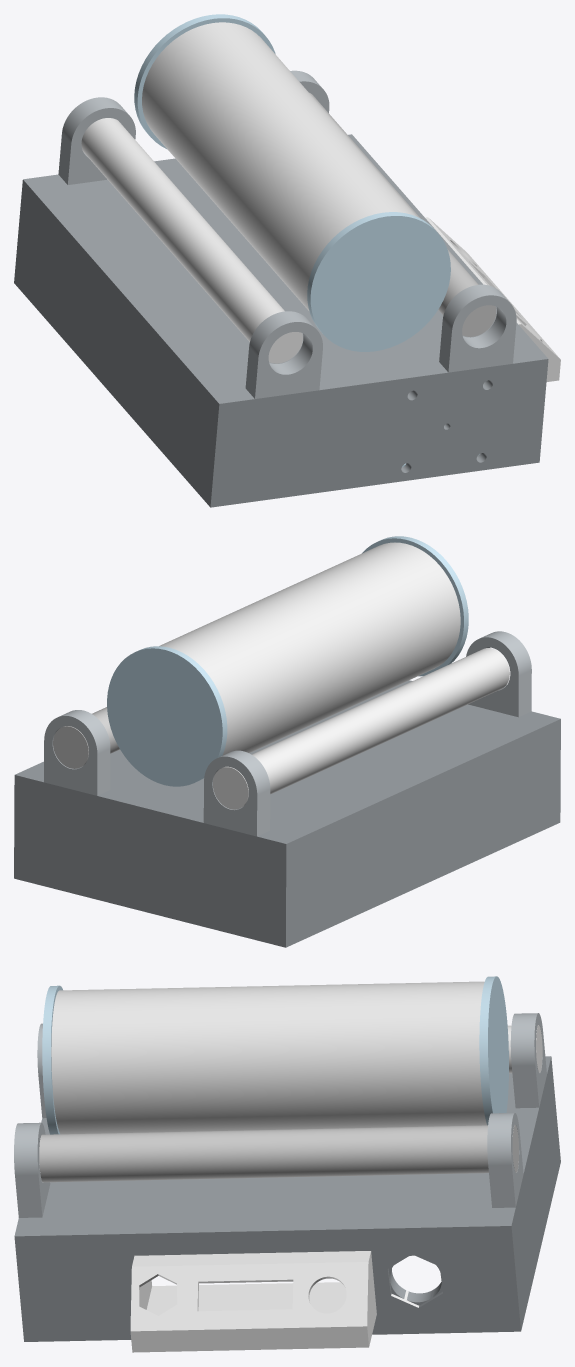
Rendered from Assembly 1bbbb23232.gltf.
The picture shows the model from 3 angles, top to bottom: view 1: azimuth 30°, elevation 25°; view 2: azimuth 150°, elevation 25°; view 3: azimuth 270°, elevation 25°; orthographic projection. The views are drawn at different scales.
Visible parts, largest first — view 1: Part 7, Part 10, Part 12, Part 2, Part 6, Part 5, Part 4, Part 11, Part 1, Part 9; view 2: Part 7, Part 10, Part 11, Part 2, Part 4, Part 3, Part 5, Part 12, Part 1; view 3: Part 7, Part 10, Part 9, Part 1, Part 11, Part 3, Part 4, Part 6, Part 12, Part 5.
Part boxes in pixels (left/top/right/bottom): Part 7: left=14, top=134, right=548, bottom=507; Part 10: left=142, top=22, right=417, bottom=311; Part 12: left=307, top=212, right=450, bottom=351; Part 2: left=81, top=118, right=302, bottom=363; Part 6: left=439, top=284, right=516, bottom=372; Part 5: left=245, top=311, right=322, bottom=398; Part 4: left=58, top=97, right=135, bottom=184; Part 11: left=134, top=14, right=275, bottom=149; Part 1: left=309, top=92, right=496, bottom=336; Part 9: left=425, top=217, right=560, bottom=381; Part 7: left=14, top=680, right=560, bottom=947; Part 10: left=159, top=542, right=460, bottom=755; Part 11: left=107, top=646, right=227, bottom=786; Part 2: left=213, top=648, right=509, bottom=809; Part 4: left=203, top=750, right=270, bottom=836; Part 3: left=44, top=710, right=110, bottom=795; Part 5: left=466, top=631, right=531, bottom=717; Part 12: left=362, top=536, right=468, bottom=676; Part 1: left=53, top=707, right=119, bottom=768; Part 7: left=14, top=1056, right=560, bottom=1341; Part 10: left=51, top=981, right=486, bottom=1134; Part 9: left=130, top=1251, right=376, bottom=1352; Part 1: left=39, top=1124, right=518, bottom=1182; Part 11: left=479, top=976, right=508, bottom=1125; Part 3: left=487, top=1113, right=523, bottom=1207; Part 4: left=510, top=1013, right=546, bottom=1108; Part 6: left=14, top=1122, right=50, bottom=1217; Part 12: left=42, top=985, right=62, bottom=1134; Part 5: left=37, top=1023, right=46, bottom=1118.
Size of the model in its own units: 0.1994 by 0.1422 by 0.229.
